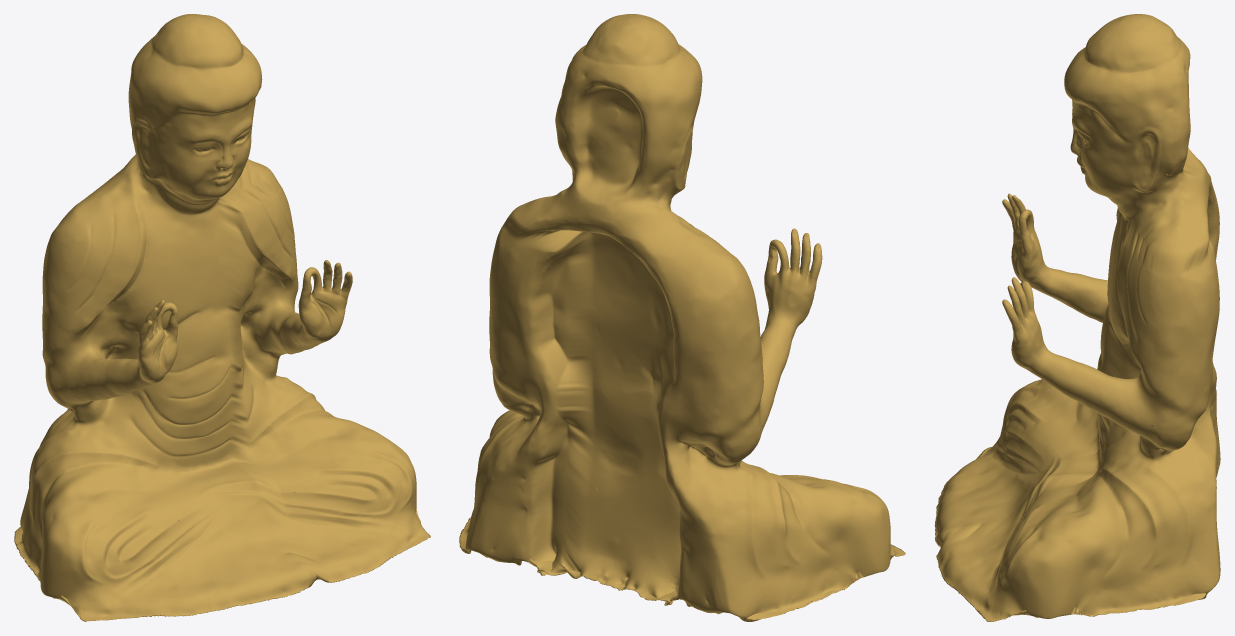
File: paired-source-arms-CC-BY-NC-SA-4.0.glb
The picture shows the model from 3 angles, left to right: view 1: azimuth 30°, elevation 25°; view 2: azimuth 150°, elevation 25°; view 3: azimuth 270°, elevation 25°; orthographic projection. The views are drawn at different scales.
Parts seen in each view (by area): view 1: NC_Sainsbury_R09_actual_carved_body_with_native_vitarka_tips; view 2: NC_Sainsbury_R09_actual_carved_body_with_native_vitarka_tips; view 3: NC_Sainsbury_R09_actual_carved_body_with_native_vitarka_tips.
Boxes of the visible parts, left/top/right/bottom form: NC_Sainsbury_R09_actual_carved_body_with_native_vitarka_tips: left=14, top=14, right=430, bottom=621; NC_Sainsbury_R09_actual_carved_body_with_native_vitarka_tips: left=459, top=14, right=905, bottom=621; NC_Sainsbury_R09_actual_carved_body_with_native_vitarka_tips: left=934, top=14, right=1220, bottom=621.
Size of the model in its own units: 1.39 by 1.82 by 0.9045.
